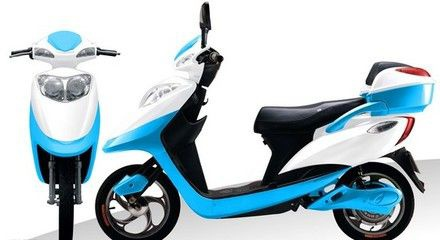non-vehicle: (95, 3, 435, 236), (6, 33, 120, 237)
